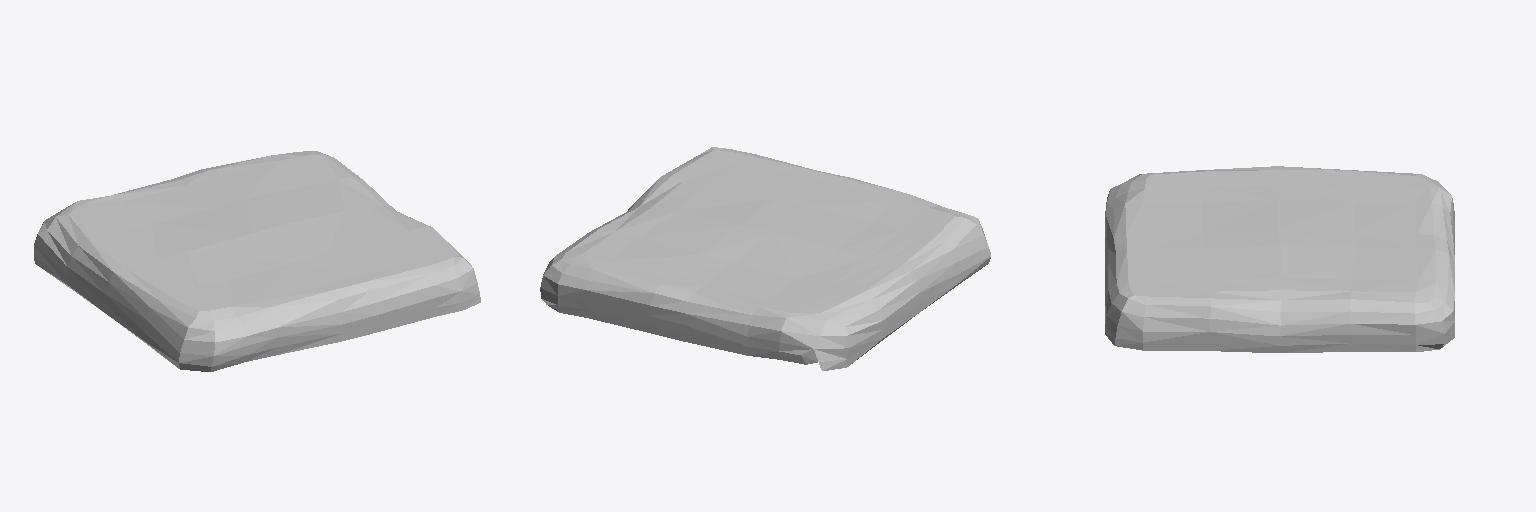
File: Tile2.obj
3 views of the same model, side by side, from view 1: azimuth 30°, elevation 25°; view 2: azimuth 150°, elevation 25°; view 3: azimuth 270°, elevation 25° (orthographic).
Parts seen in each view (by area): view 1: SM_Tile2_LP; view 2: SM_Tile2_LP; view 3: SM_Tile2_LP.
Boxes of the visible parts, <box> form: SM_Tile2_LP: <box>34,151,480,371</box>; SM_Tile2_LP: <box>540,147,990,370</box>; SM_Tile2_LP: <box>1105,166,1454,352</box>.
Bounding box in the file's own units: 156 × 24.27 × 156.